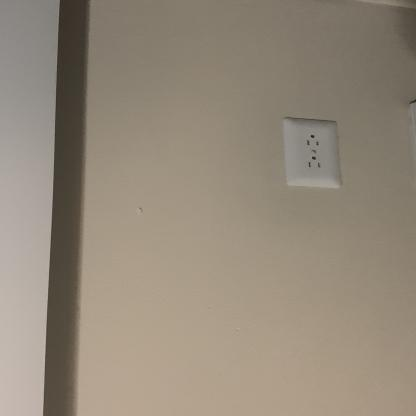OUTLET: (286, 119, 338, 188)
